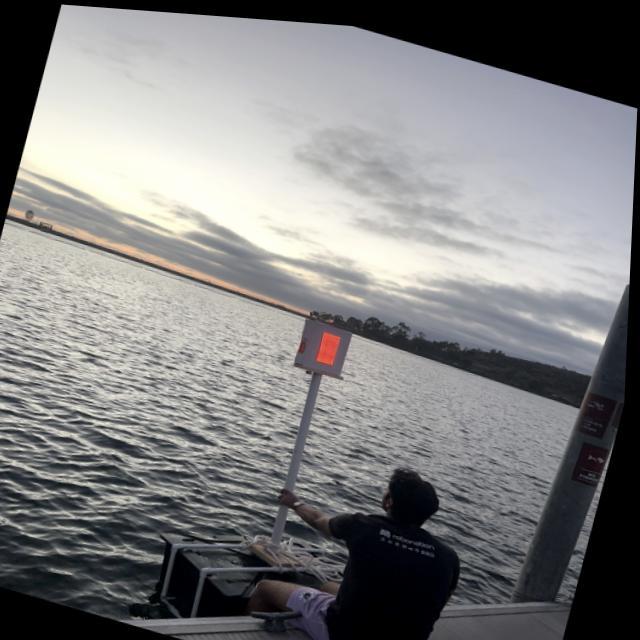led: (303, 306, 361, 374)
